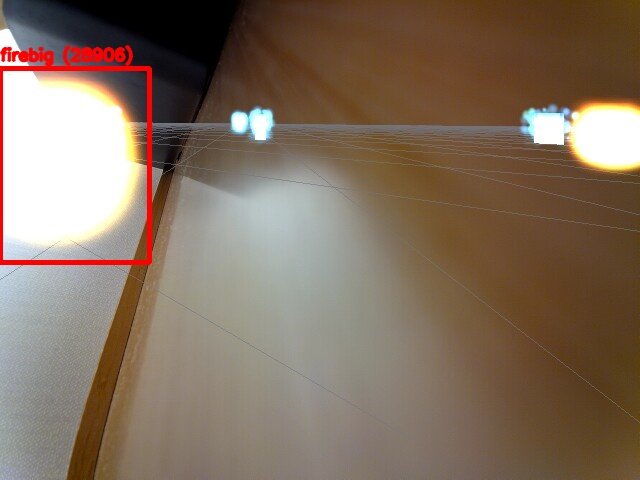firebig: (0, 68, 149, 262)
